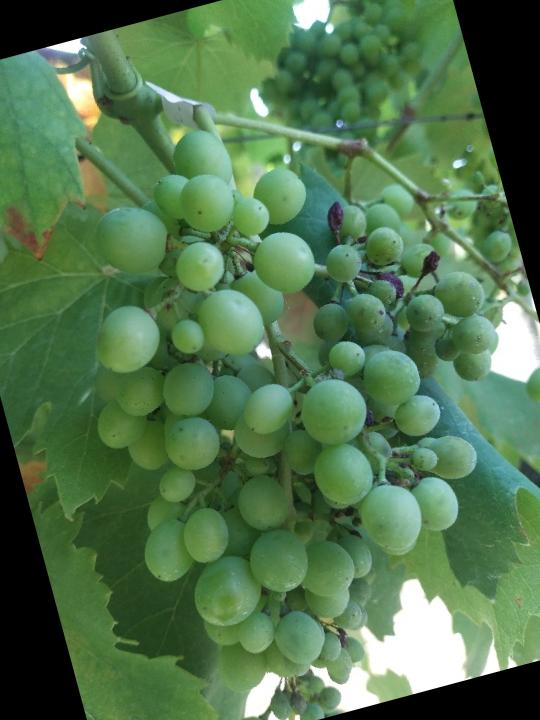grape: (27, 66, 540, 717)
